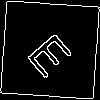E: (25, 25, 82, 81)
